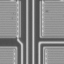dust: (45, 9, 48, 12)
